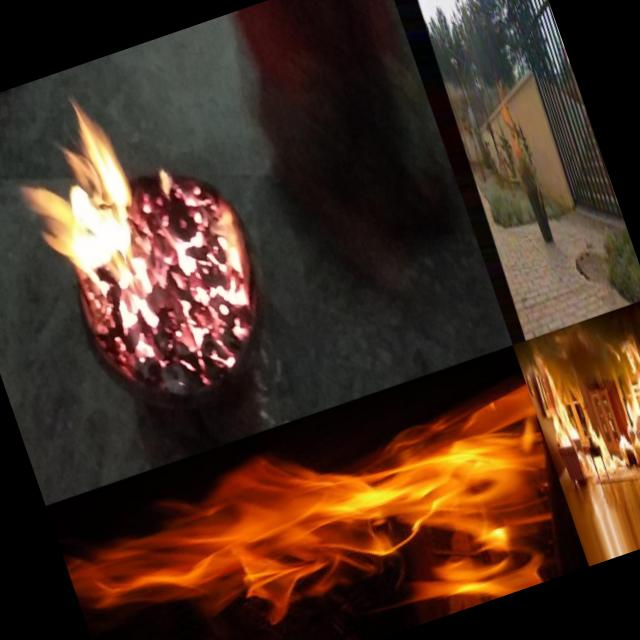fire: (53, 363, 589, 640), (0, 67, 168, 300), (133, 132, 280, 368), (75, 262, 212, 419), (485, 70, 528, 160), (540, 360, 580, 446), (618, 338, 640, 431), (580, 421, 616, 477), (544, 402, 574, 458), (615, 393, 640, 449), (612, 424, 634, 456)
